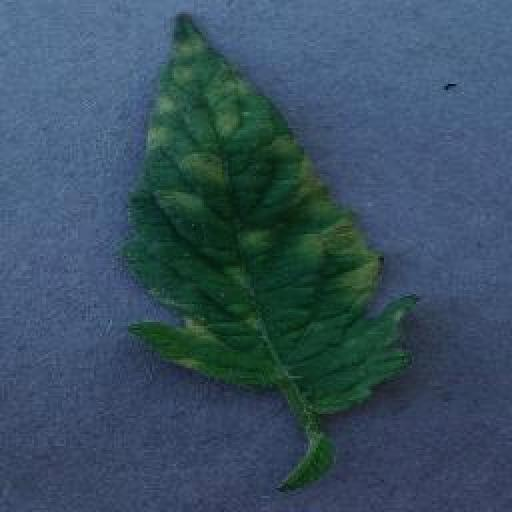disease_tomato: (118, 10, 419, 416)
